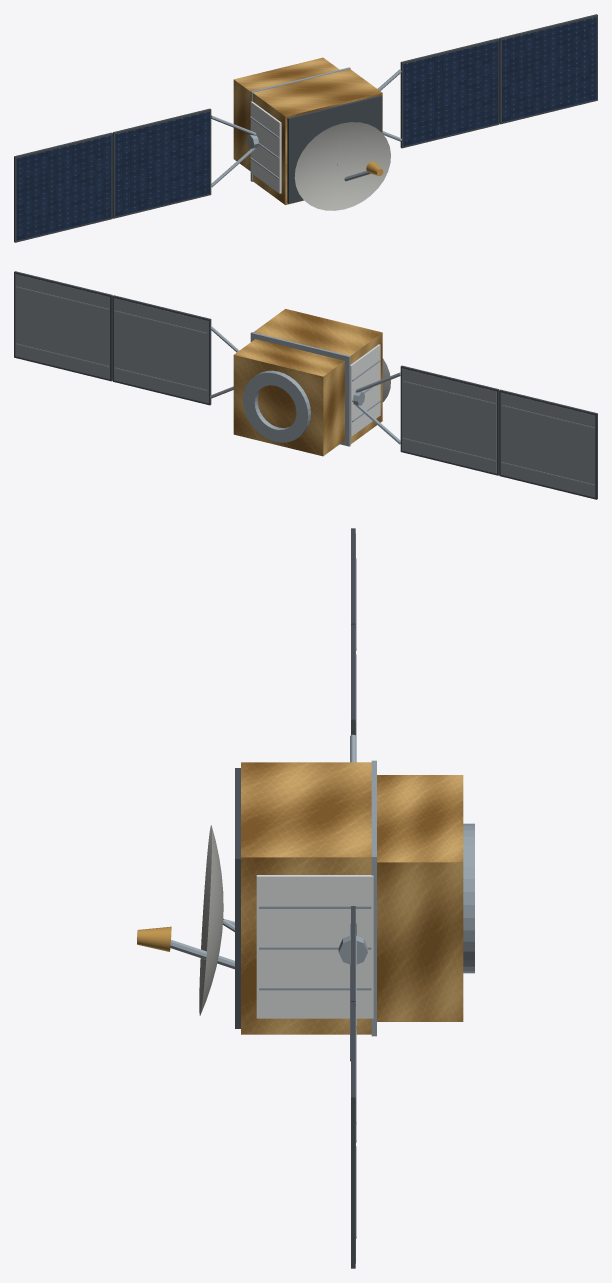
The model's file is ref-yamal-100-25896.glb.
3 views of the same model, one above another, from view 1: azimuth 30°, elevation 25°; view 2: azimuth 150°, elevation 25°; view 3: azimuth 270°, elevation 25° (orthographic). The views are drawn at different scales.
Visible parts, largest first — view 1: Solar cell panel (×4), Deck-mounted reflector, Payload module, Solar panel frame (×4), Earth-facing deck, Service module, Radiator face; view 2: Rear array substrate (×4), Service module, Solar panel frame (×4), Payload module, Launch adapter ring, Radiator face, Module interface; view 3: Service module, Payload module, Radiator face, Deck-mounted reflector, Launch adapter ring, Earth-facing deck, Module interface, Solar panel frame.
Part boxes in pixels (left/top/right/bottom): Solar cell panel (×4): left=16, top=17, right=596, bottom=240; Deck-mounted reflector: left=294, top=122, right=390, bottom=210; Payload module: left=252, top=69, right=382, bottom=204; Solar panel frame (×4): left=14, top=14, right=597, bottom=242; Earth-facing deck: left=287, top=95, right=382, bottom=203; Service module: left=233, top=57, right=339, bottom=171; Radiator face: left=250, top=101, right=281, bottom=193; Rear array substrate (×4): left=15, top=274, right=595, bottom=497; Service module: left=233, top=339, right=344, bottom=456; Solar panel frame (×4): left=14, top=271, right=597, bottom=499; Payload module: left=253, top=309, right=382, bottom=443; Launch adapter ring: left=243, top=370, right=310, bottom=442; Radiator face: left=350, top=344, right=380, bottom=436; Module interface: left=250, top=332, right=350, bottom=446; Service module: left=377, top=775, right=463, bottom=1021; Payload module: left=241, top=762, right=371, bottom=1034; Radiator face: left=256, top=875, right=373, bottom=1018; Deck-mounted reflector: left=199, top=825, right=223, bottom=1015; Launch adapter ring: left=463, top=823, right=474, bottom=973; Earth-facing deck: left=235, top=768, right=240, bottom=1028; Module interface: left=371, top=760, right=376, bottom=1036; Solar panel frame: left=351, top=1002, right=355, bottom=1268.
Size of the model in its own units: 11.98 by 1.92 by 3.01.
8 materials, 2 textured.
